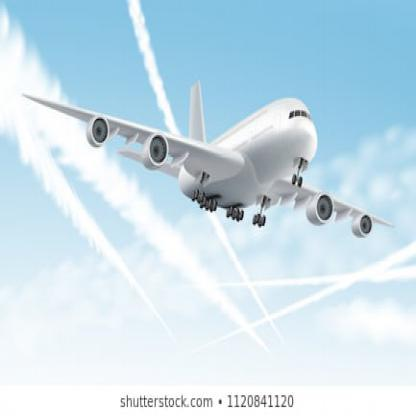CIV_Plane: (17, 81, 398, 236)
